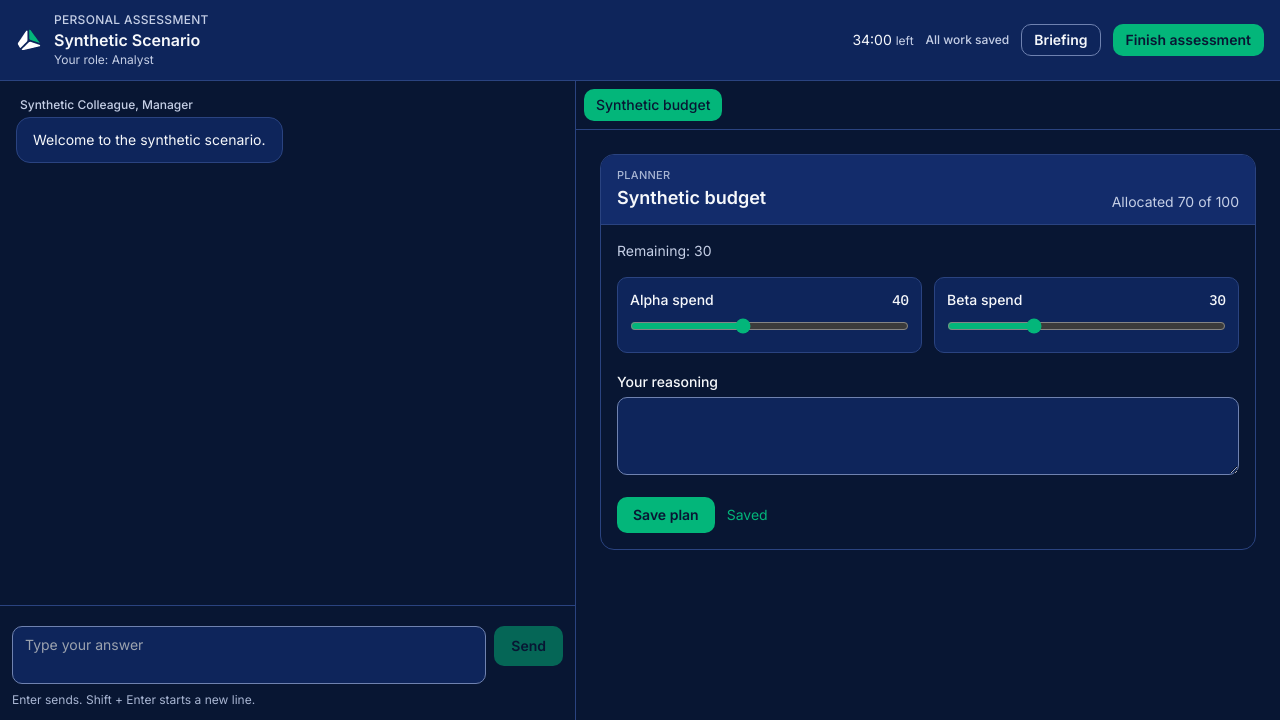
Test case: Assessment Workspace V3 player (§12) › work materials autosave through the versioned endpoint
Type "Synthetic reasoning" into the text box labelled "Your reasoning" at coordinates (928, 436), box [617, 396, 1239, 474]
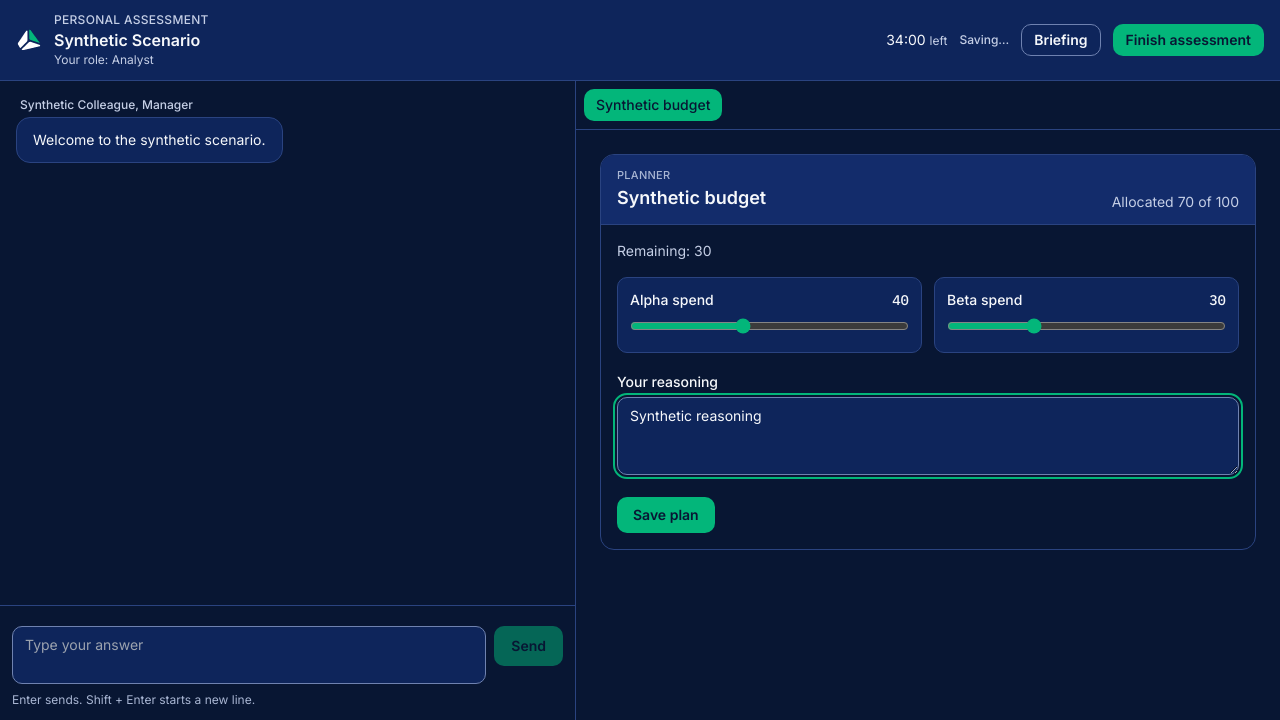
Click the button "Save plan" at coordinates (666, 514), box [617, 496, 715, 532]
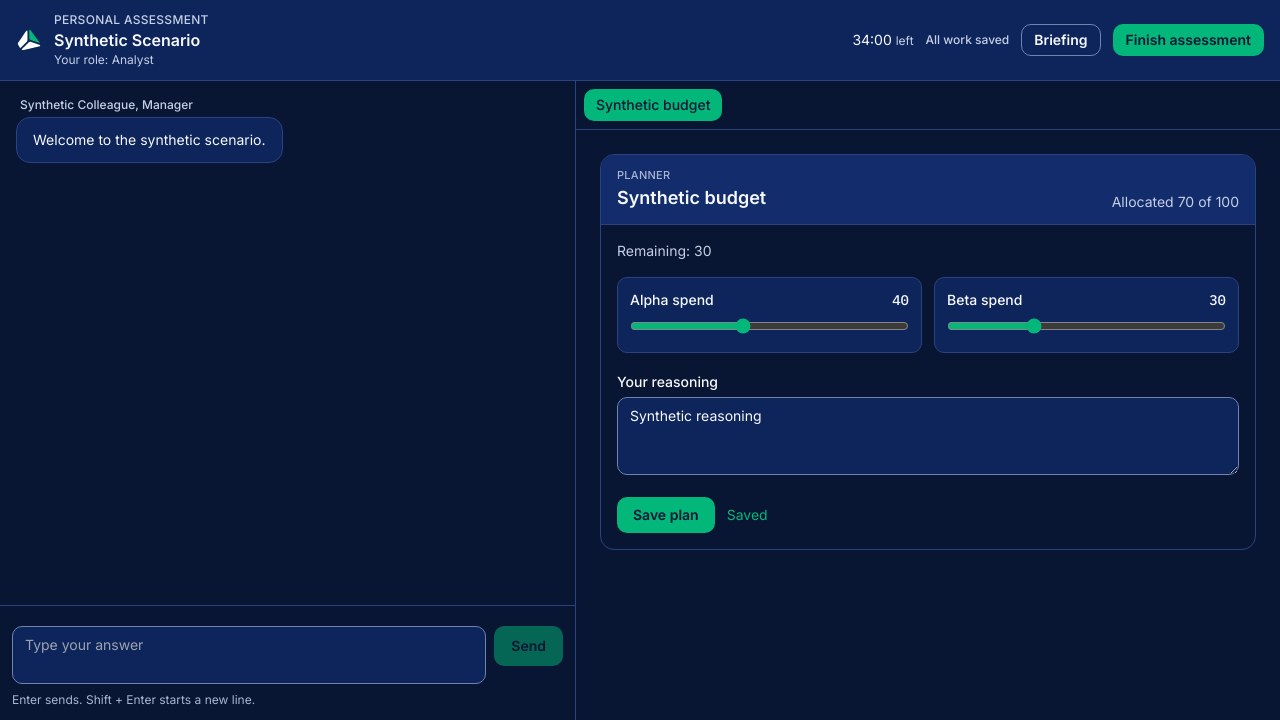
Expected: the text "All work saved" is shown, [926, 32, 1009, 48]
